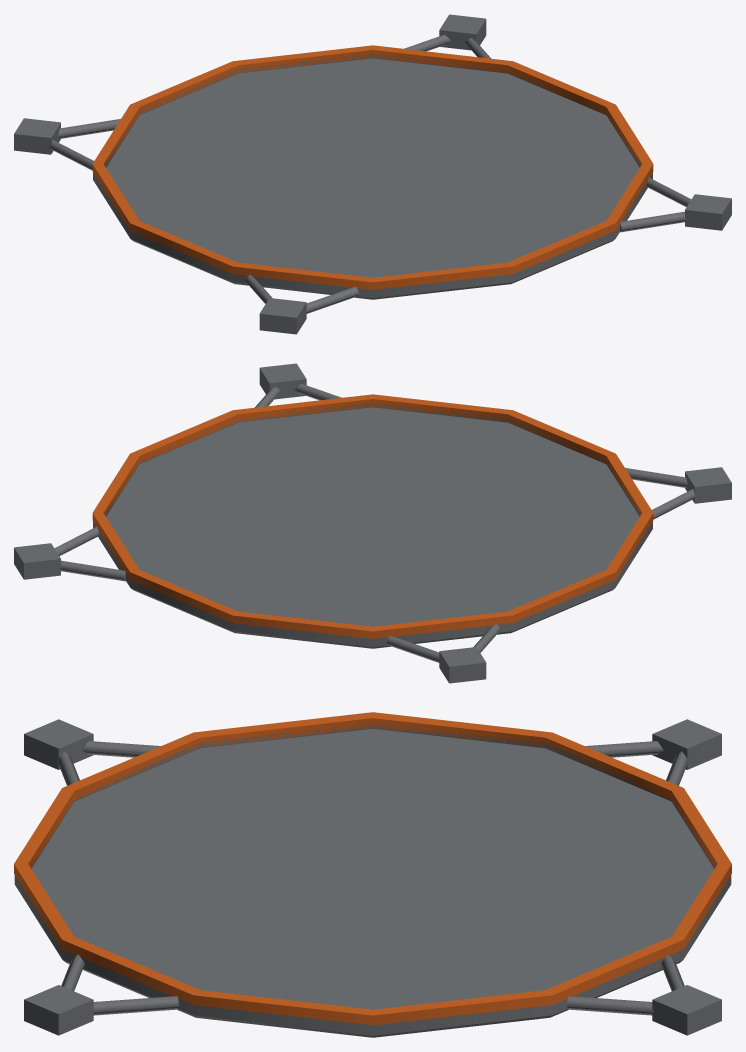
Rendered from tz12_structure.obj.
The picture shows the model from 3 angles, top to bottom: view 1: azimuth 30°, elevation 25°; view 2: azimuth 150°, elevation 25°; view 3: azimuth 270°, elevation 25°; orthographic projection. The views are drawn at different scales.
Visible parts, largest first — view 1: tz12_structure; view 2: tz12_structure; view 3: tz12_structure.
Part boxes in pixels (box(x1,y1,x2,y2)): tz12_structure: box(14, 14, 731, 334); tz12_structure: box(14, 363, 731, 683); tz12_structure: box(14, 712, 731, 1037).
Size of the model in its own units: 6.7 by 0.25 by 6.7.
